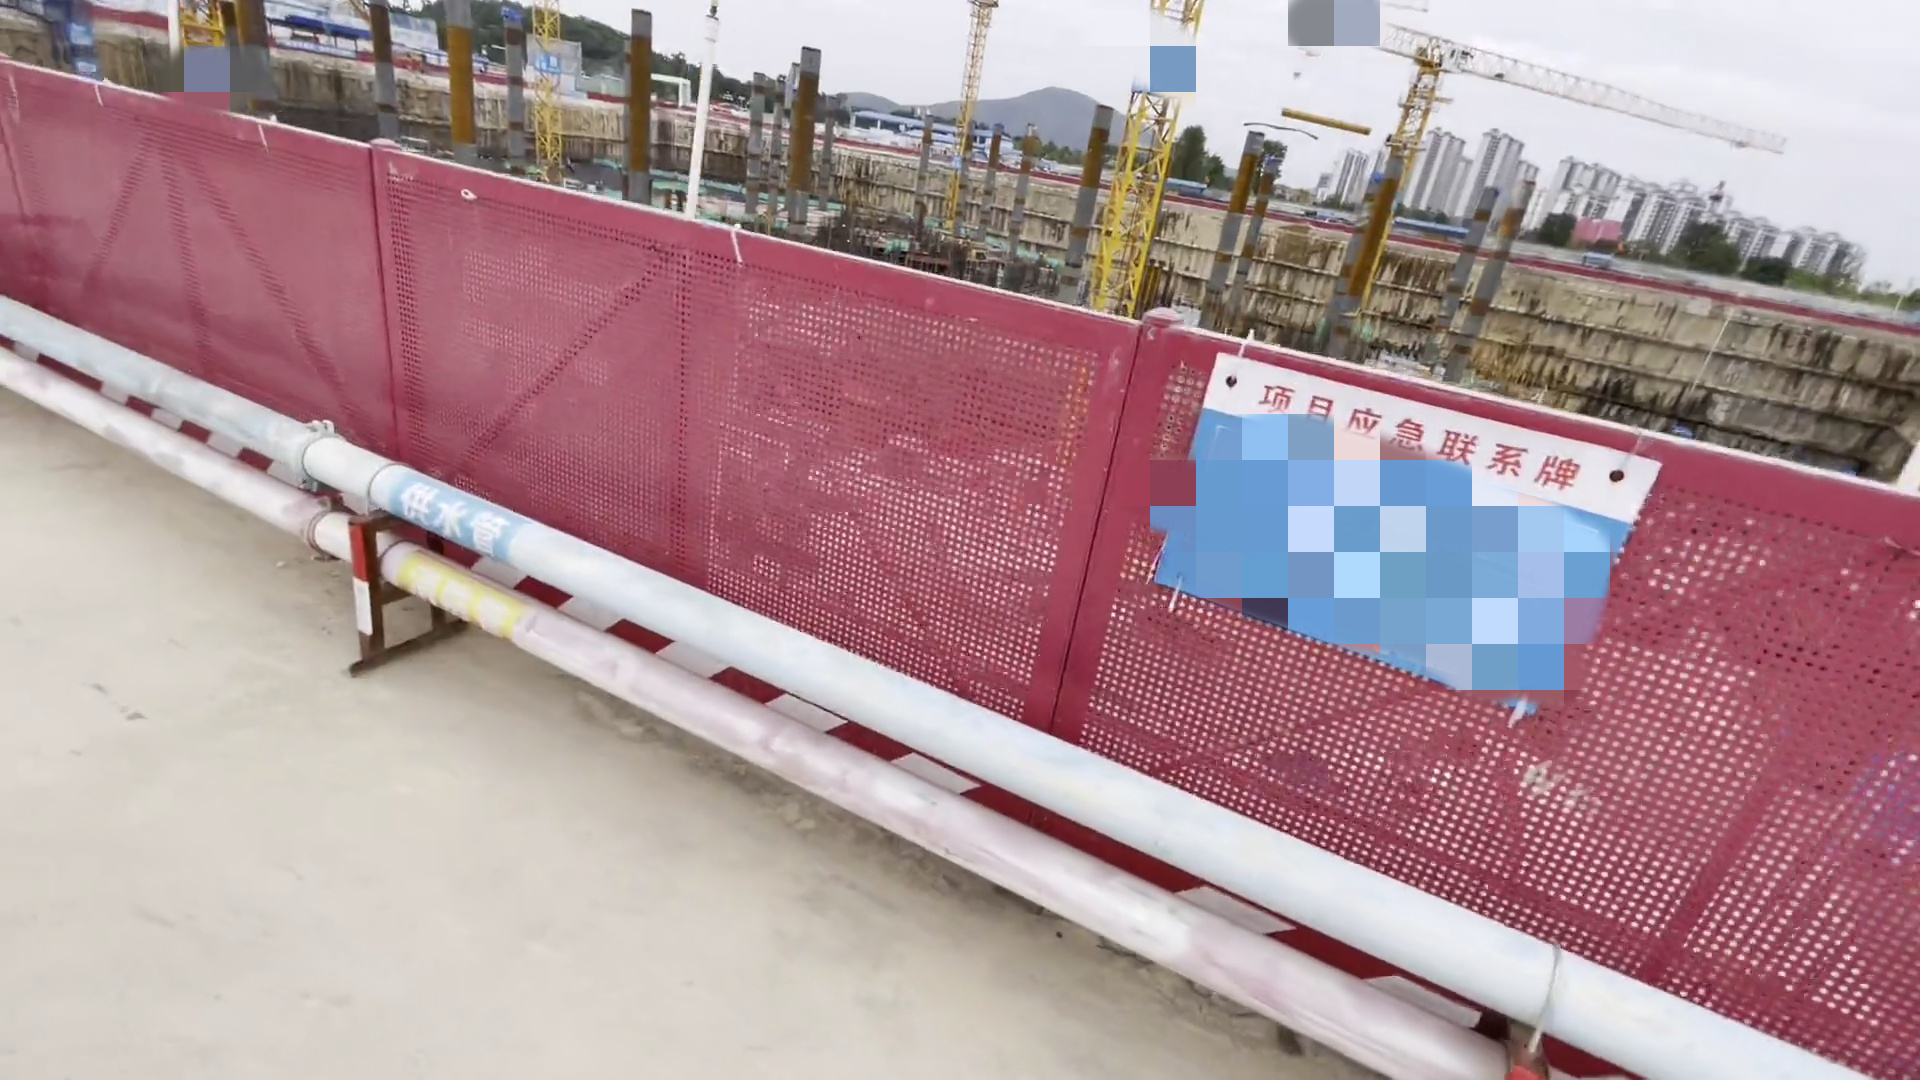fence: (46, 44, 1867, 1042)
